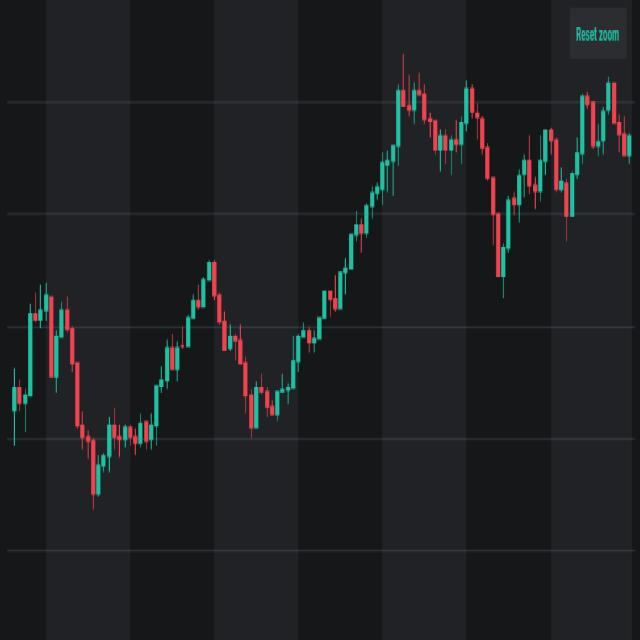Resistance-breakout: (170, 60, 426, 435)
